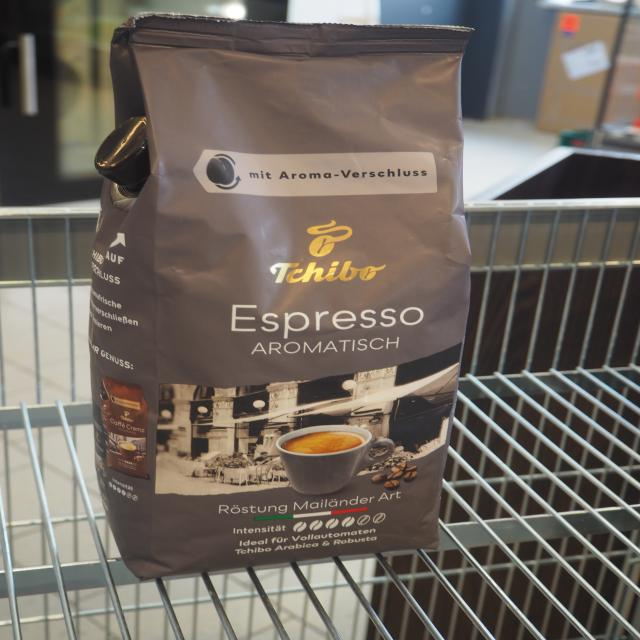Espresso Aromatisch: (88, 11, 481, 599)
